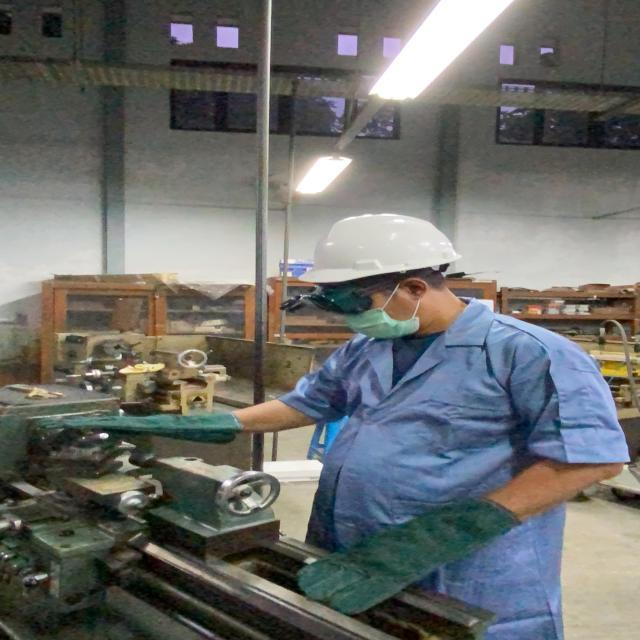glasses: (274, 276, 392, 318)
